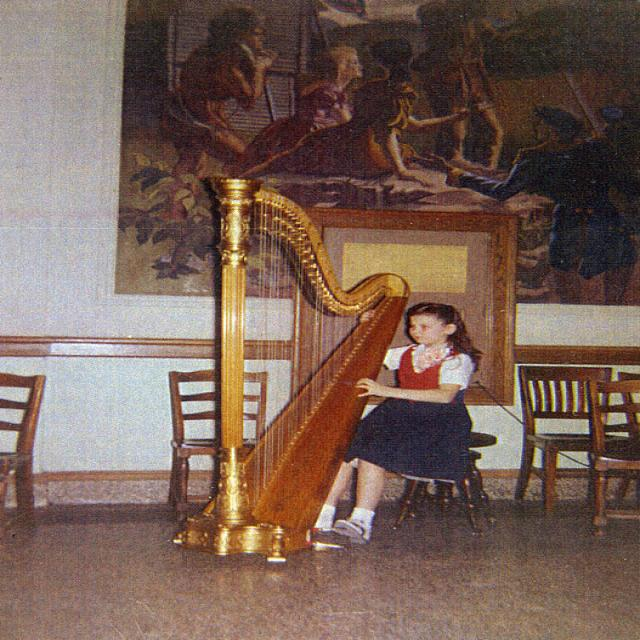harp: (172, 174, 414, 567)
